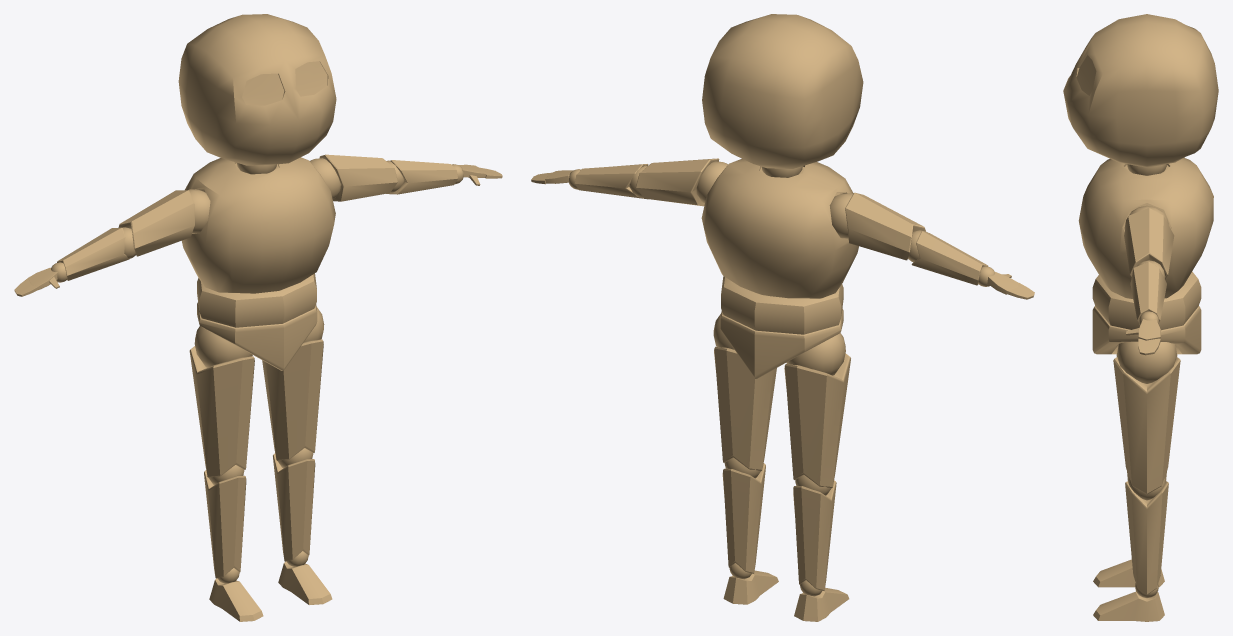
The model's file is mode_perso.fbx.
3 views of the same model, side by side, from view 1: azimuth 30°, elevation 25°; view 2: azimuth 150°, elevation 25°; view 3: azimuth 270°, elevation 25° (orthographic). The views are drawn at different scales.
Parts seen in each view (by area): view 1: head_GEO, Spine, RightUpLeg, LeftUpLeg, Spine1, RightLeg, LeftLeg, Hips, RightArm, LeftArm, RightForeArm, LeftForeArm (+3 smaller); view 2: head_GEO, Spine, RightUpLeg, LeftUpLeg, Spine1, RightLeg, LeftLeg, Hips, RightArm, LeftArm, RightForeArm, LeftForeArm (+4 smaller); view 3: head_GEO, Spine, LeftUpLeg, LeftLeg, Spine1, LeftArm, Hips, LeftUpLeg1, LeftFoot, LeftForeArm, RightFoot, pPlane1 (+3 smaller).
Part boxes in pixels (left/top/right/bottom): head_GEO: left=178, top=14, right=336, bottom=165; Spine: left=182, top=157, right=335, bottom=293; RightUpLeg: left=189, top=346, right=254, bottom=477; LeftUpLeg: left=262, top=339, right=323, bottom=460; Spine1: left=197, top=273, right=316, bottom=327; RightLeg: left=204, top=470, right=246, bottom=578; LeftLeg: left=273, top=453, right=315, bottom=561; Hips: left=197, top=302, right=317, bottom=370; RightArm: left=118, top=190, right=194, bottom=256; LeftArm: left=319, top=154, right=397, bottom=201; RightForeArm: left=57, top=227, right=129, bottom=280; LeftForeArm: left=386, top=160, right=458, bottom=194; head_GEO: left=702, top=14, right=863, bottom=168; Spine: left=701, top=159, right=858, bottom=298; RightUpLeg: left=784, top=353, right=850, bottom=487; LeftUpLeg: left=714, top=346, right=776, bottom=470; Spine1: left=721, top=276, right=843, bottom=334; RightLeg: left=793, top=480, right=836, bottom=590; LeftLeg: left=722, top=463, right=765, bottom=573; Hips: left=720, top=308, right=843, bottom=378; RightArm: left=845, top=192, right=925, bottom=260; LeftArm: left=636, top=158, right=719, bottom=206; RightForeArm: left=911, top=231, right=988, bottom=285; LeftForeArm: left=574, top=164, right=648, bottom=199; head_GEO: left=1063, top=14, right=1218, bottom=167; Spine: left=1078, top=157, right=1213, bottom=298; LeftUpLeg: left=1113, top=357, right=1180, bottom=494; LeftLeg: left=1125, top=481, right=1168, bottom=594; Spine1: left=1092, top=271, right=1201, bottom=330; LeftArm: left=1124, top=208, right=1174, bottom=278; Hips: left=1092, top=306, right=1201, bottom=354; LeftUpLeg1: left=1117, top=341, right=1176, bottom=383; LeftFoot: left=1093, top=591, right=1164, bottom=621; LeftForeArm: left=1130, top=261, right=1166, bottom=323; RightFoot: left=1093, top=559, right=1164, bottom=587; pPlane1: left=1138, top=319, right=1160, bottom=340.
Bounding box in the file's own units: 32.65 × 36.69 × 9.01.
